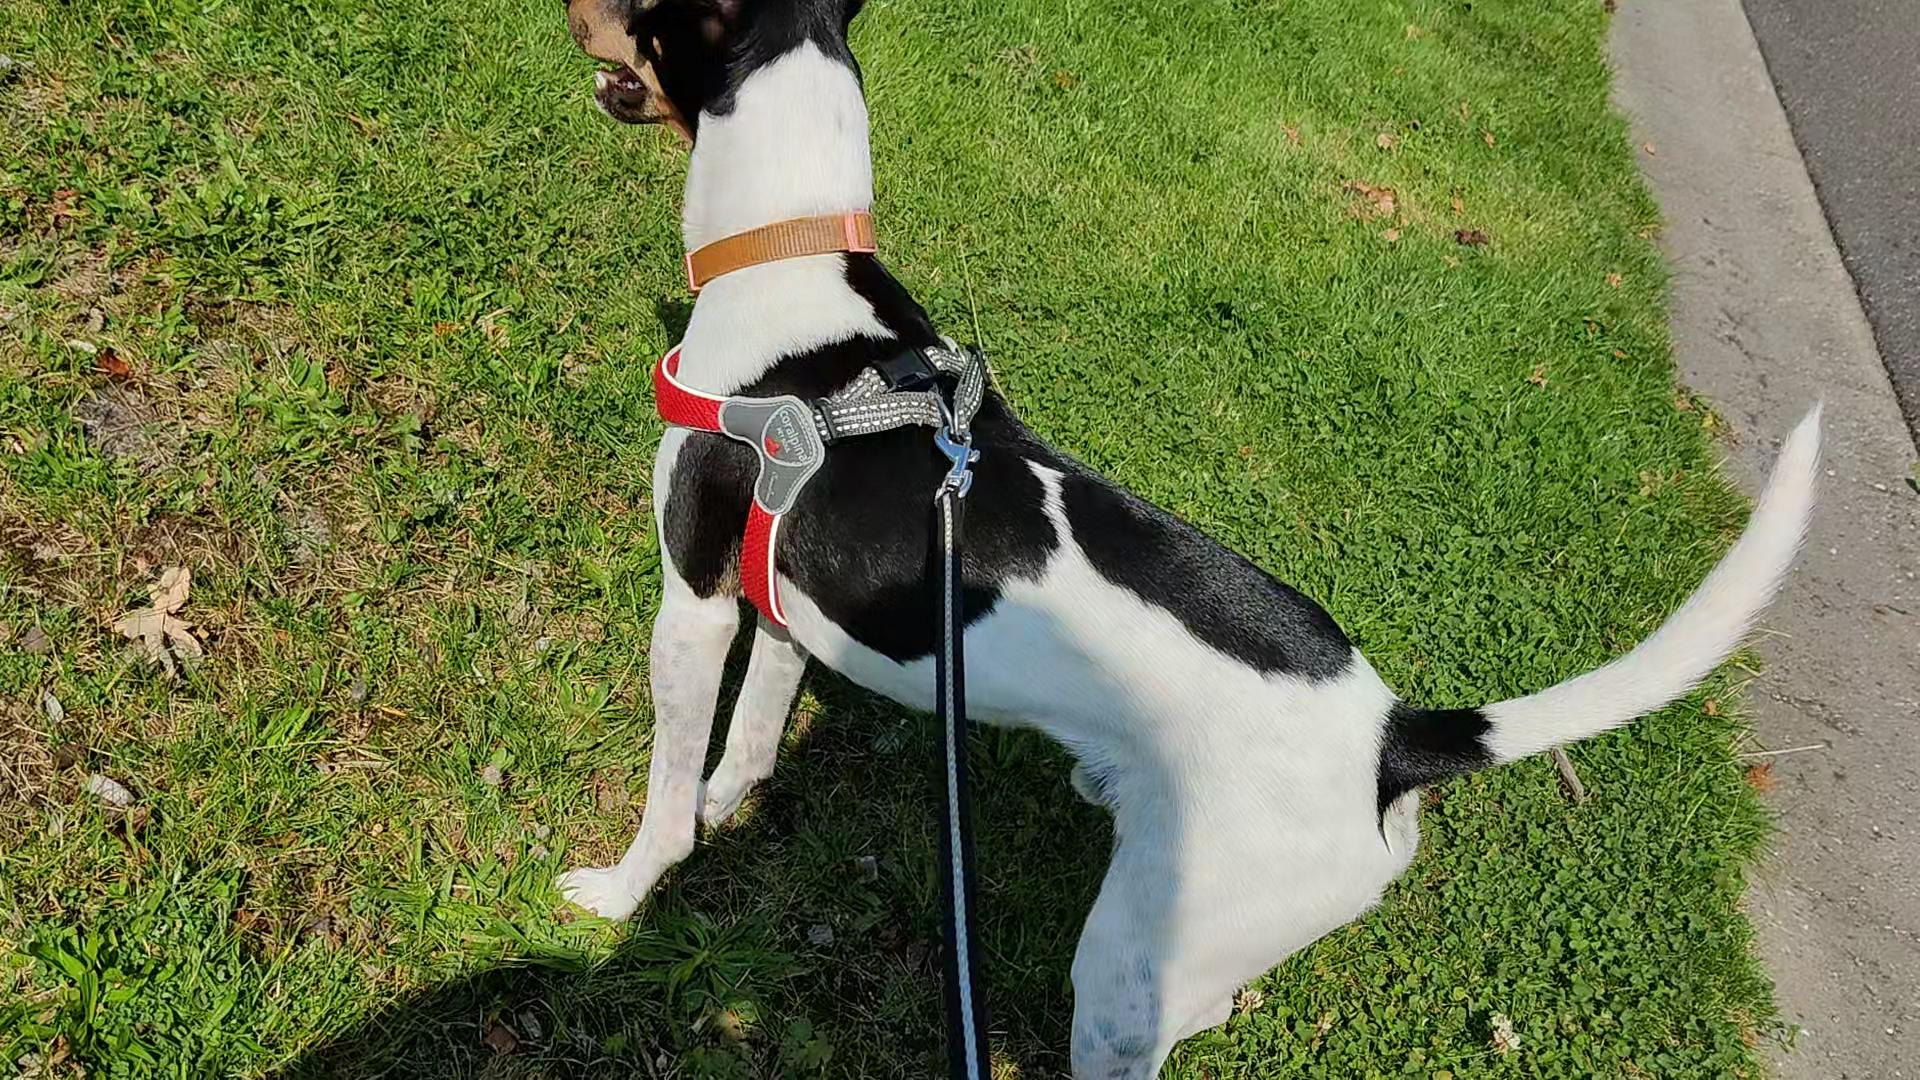Dog: (549, 0, 1829, 1080)
